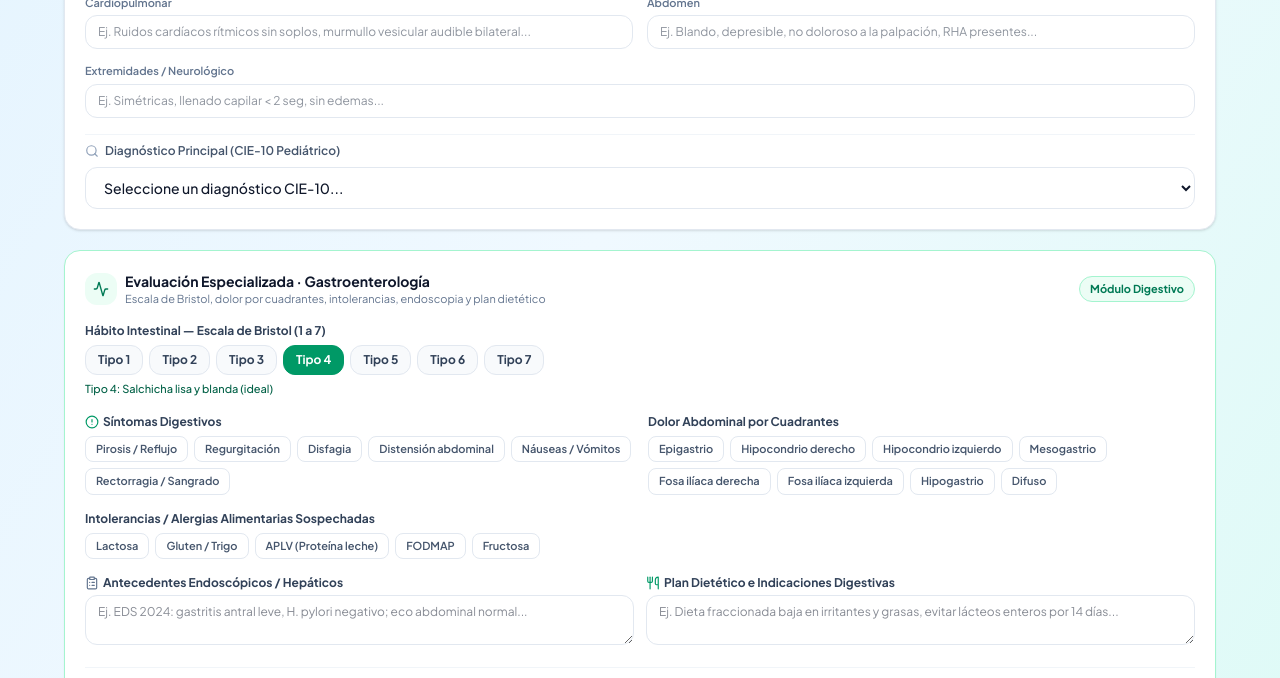
Test: Pruebas de Vista Multi-Especialidad (Pediatría, Gastroenterología y Gastro Pediátrica) › Escenario 2: Médico Solo Gastroenterología (adulto) ve Escala de Bristol y CIE-10 digestivo, sin OMS infantil
Later steps or results of the test are not shown.
(page scrolled)
Expected: the text "Hábito Intestinal — Escala de Bristol (1 a 7)" is shown, [85,323,326,338]
Expected: the text "Plan Dietético e Indicaciones Digestivas" is shown, [646,575,895,590]
Click the button "Tipo 6" at coordinates (448, 360), box [417,345,478,375]
(page scrolled)
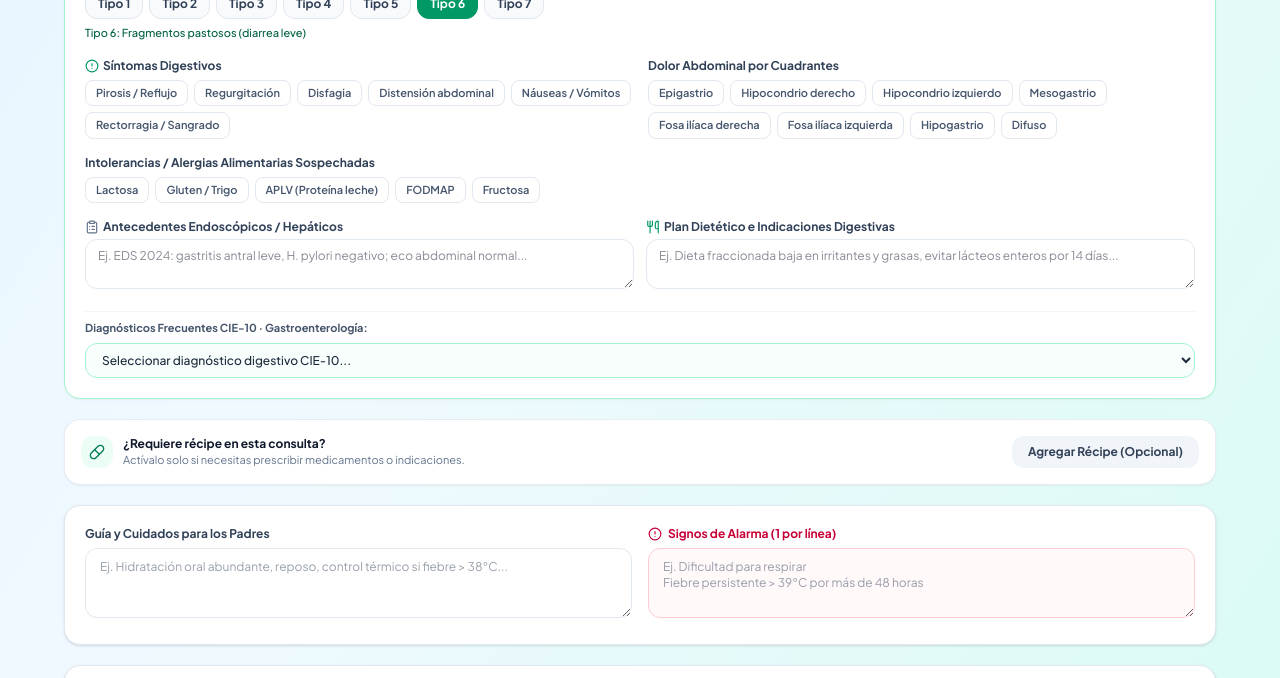
Expected: the text "Tipo 6: Fragmentos pastosos (diarrea leve)" is shown, [85,26,306,39]
